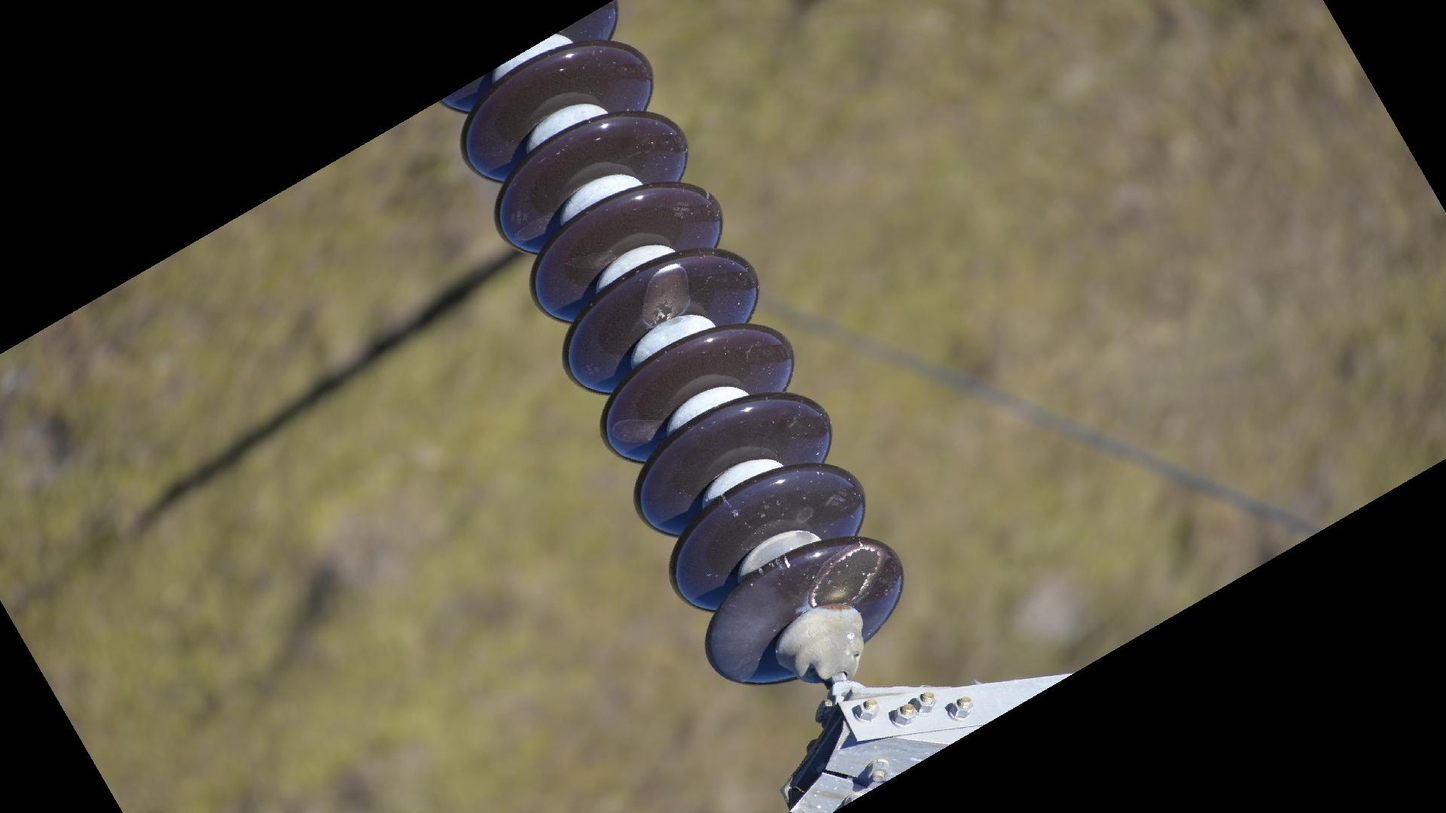insulator: (435, 1, 907, 693)
insulator_flashover: (807, 545, 885, 610), (639, 261, 694, 331)
